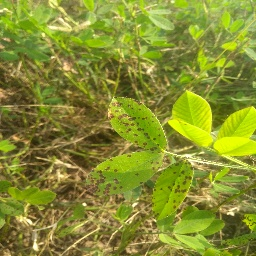GroundNut_Leaf: (110, 92, 166, 151), (85, 154, 156, 196), (154, 160, 199, 221), (172, 88, 217, 148), (219, 100, 253, 155), (167, 209, 226, 236), (28, 189, 60, 205), (216, 8, 234, 35), (150, 16, 177, 33), (26, 47, 50, 64), (84, 38, 108, 49)
